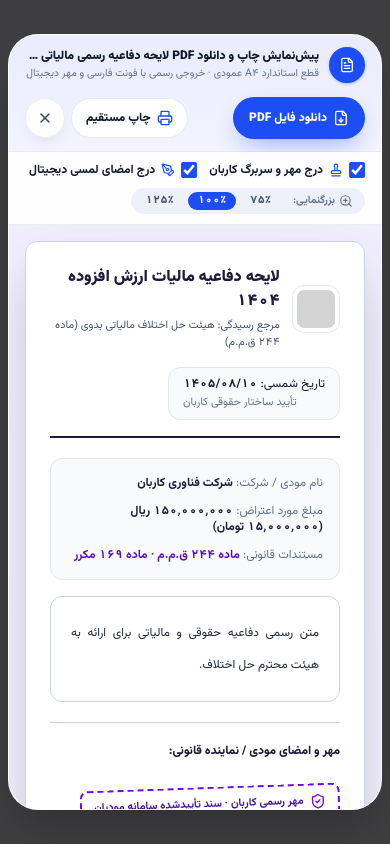
Test case: PrintPreviewPdfModal › لایحه دفاعیه مالیاتی و قرارداد رسمی را در پیش‌نمایش رندر کرده و کنترل بزرگنمایی دارد
Check: the text "لایحه دفاعیه مالیات ارزش افزوده ۱۴۰۴" is shown, box [50,266,280,314]
Check: the text "شرکت فناوری کاربان" is shown, box [137,474,233,492]
Click the button "۱۲۵٪".
click(159, 201)  # box [135,192,184,210]
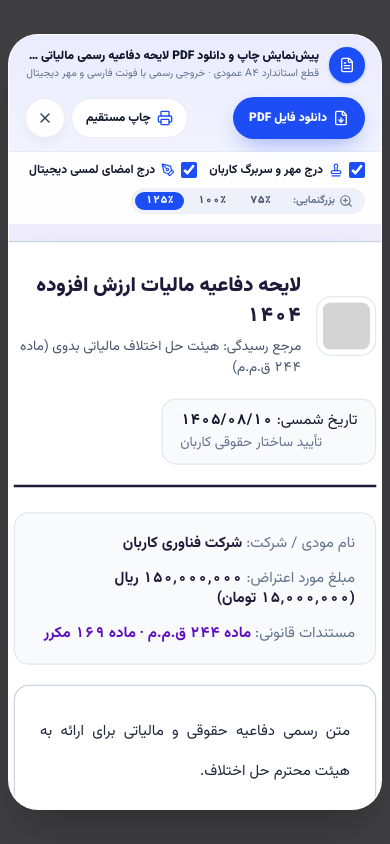
Check: the button "۱۲۵٪" has class "bg-[#1D4DF5]", box [135,192,184,210]
